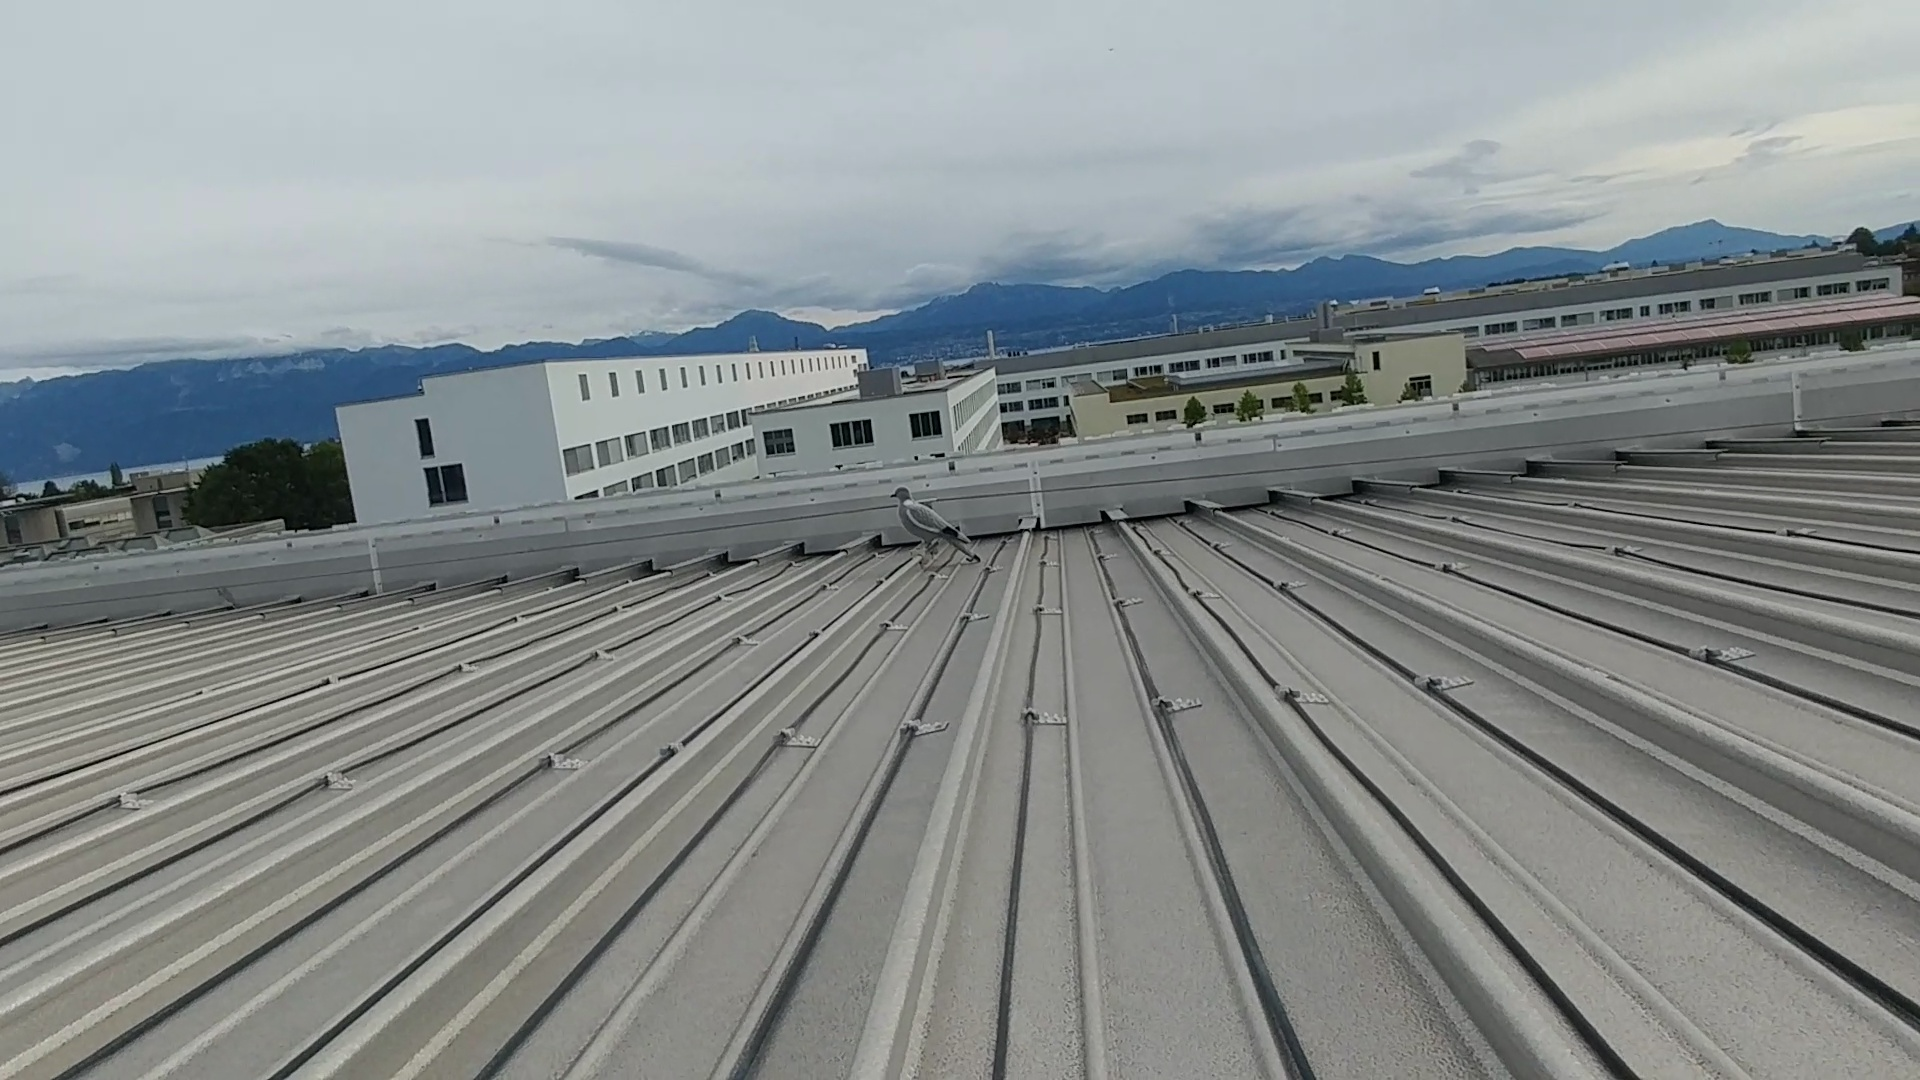Pigeon: (884, 483, 980, 558)
